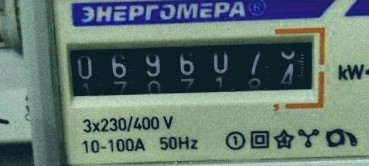0: (211, 45, 229, 75), (76, 52, 93, 80)
4: (278, 59, 295, 88)
6: (110, 50, 127, 79), (178, 47, 195, 76)
7: (245, 45, 264, 77)
9: (143, 49, 161, 78)
screen: (53, 23, 332, 113)
